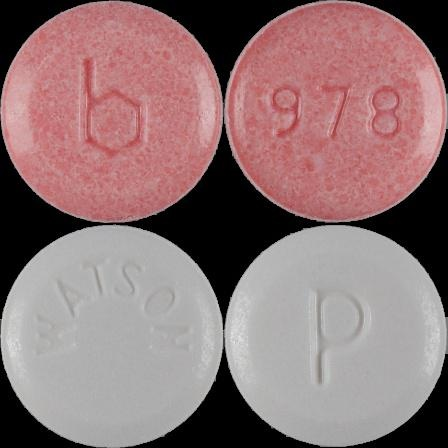54868-6272: (0, 0, 224, 224)
